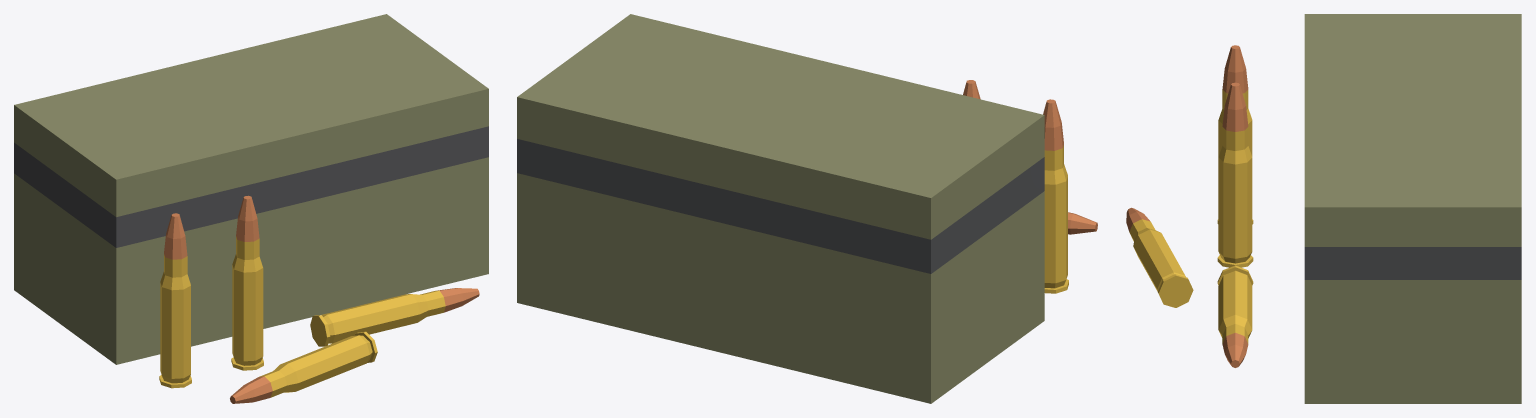
File: ammo.glb
3 renders of one model, left to right at view 1: azimuth 30°, elevation 25°; view 2: azimuth 150°, elevation 25°; view 3: azimuth 270°, elevation 25°, orthographic. The views are drawn at different scales.
Visible parts, largest first — view 1: Ammo_sniper; view 2: Ammo_sniper; view 3: Ammo_sniper.
Boxes of the visible parts, x1,y1,x2,y2 form: Ammo_sniper: [14, 14, 488, 403]; Ammo_sniper: [517, 14, 1097, 403]; Ammo_sniper: [1126, 14, 1521, 403].
Size of the model in its own units: 0.2682 by 0.1274 by 0.2321.
Materials: 1 (1 with a texture image).
